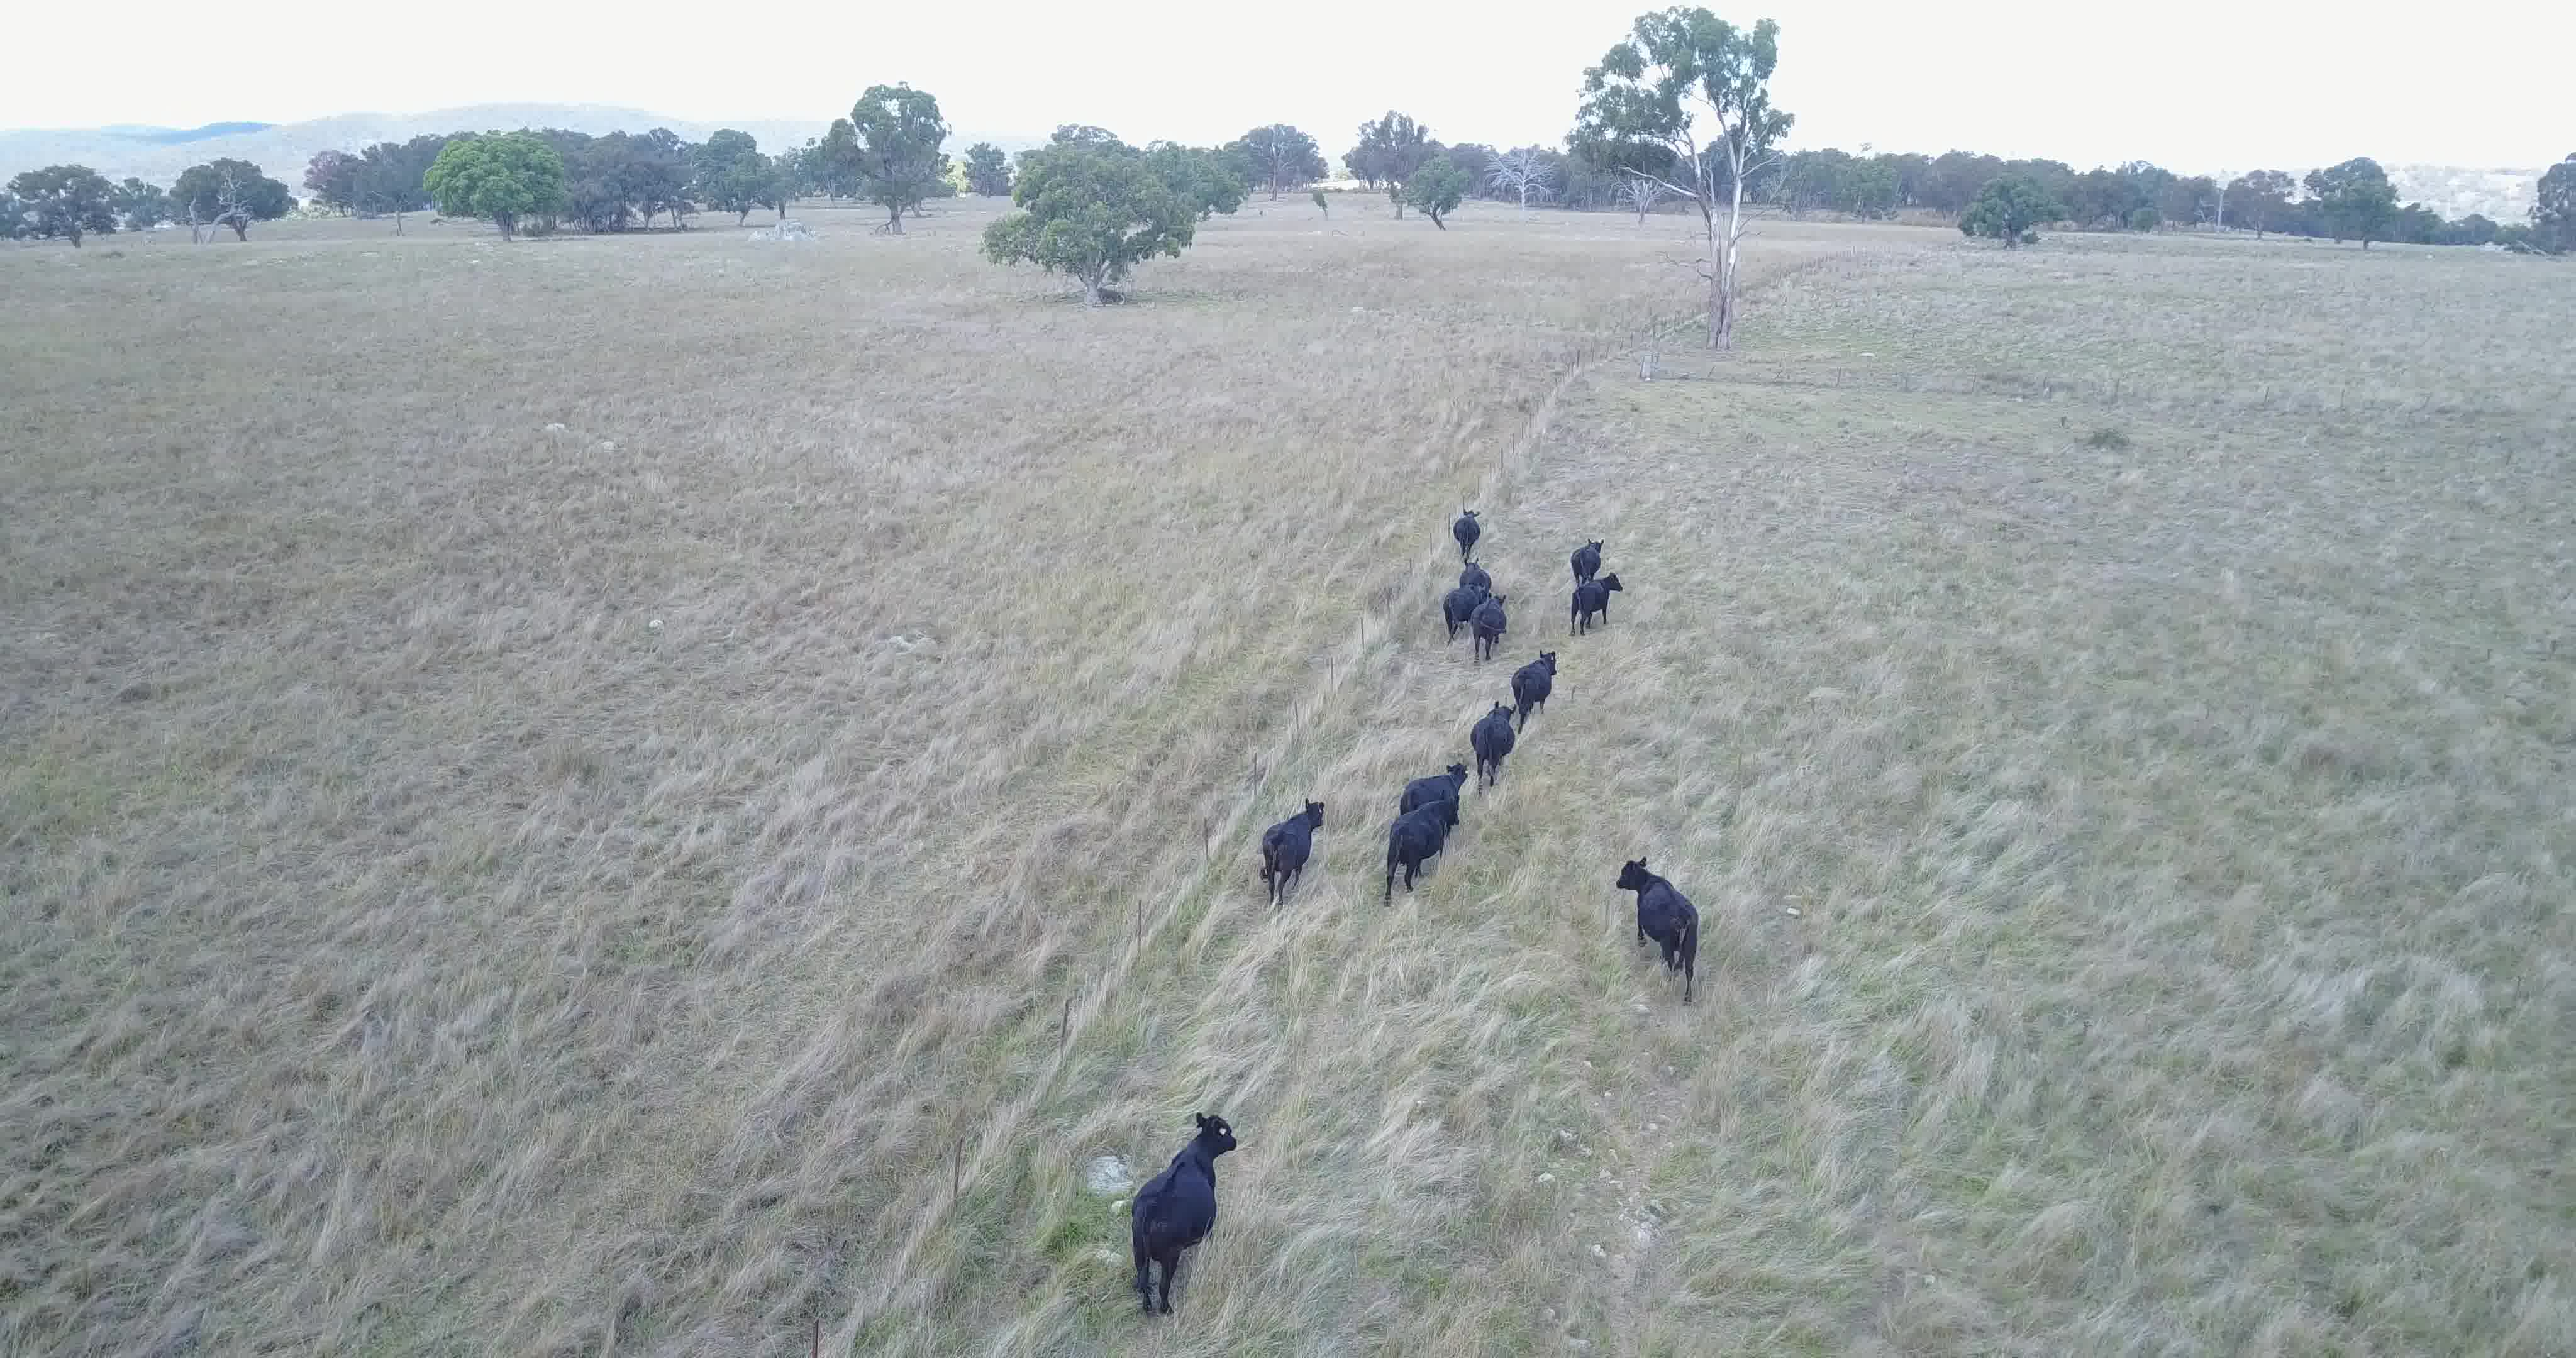cattle: (1123, 1108, 1235, 1317), (1612, 849, 1705, 1014), (1380, 796, 1458, 913), (1251, 796, 1325, 917), (1469, 699, 1516, 797), (1567, 573, 1627, 641), (1511, 647, 1559, 729), (1399, 762, 1470, 814), (1474, 591, 1506, 659), (1441, 583, 1486, 630), (1450, 506, 1487, 555), (1567, 535, 1605, 581), (1458, 554, 1494, 593)
